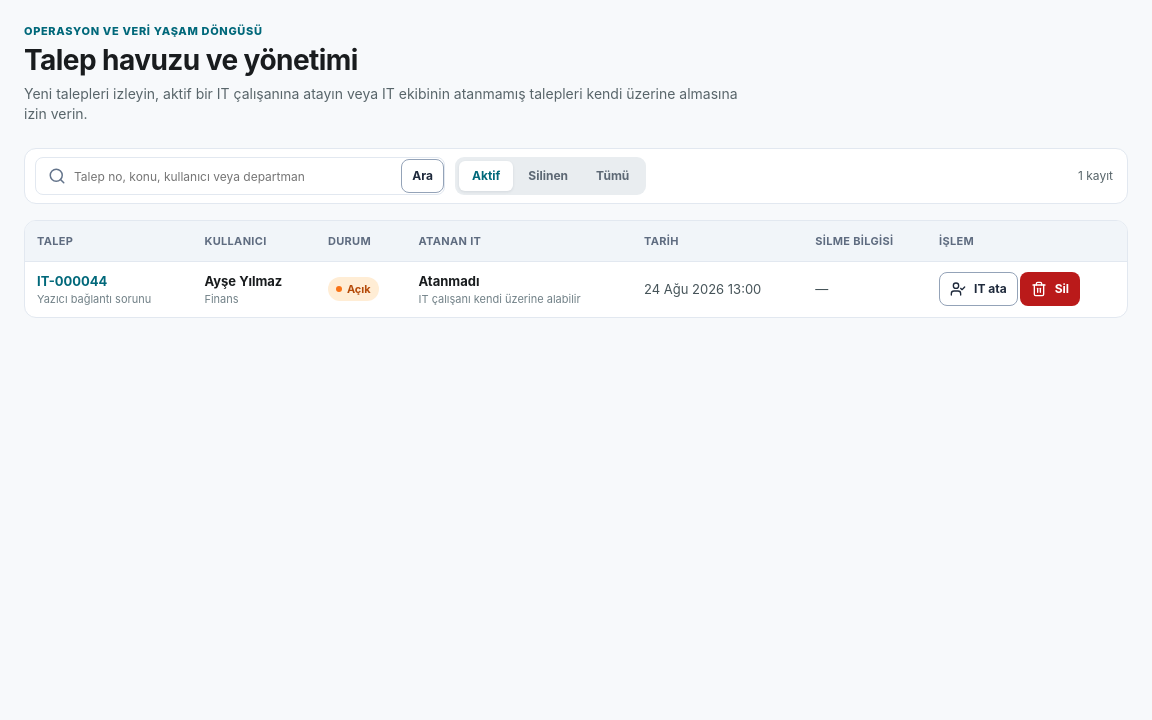
it: yönetim ekranları › admin talep havuzundan aktif IT çalışanına manuel atama yapar
This screenshot has width=1152, height=720.
Expected: the heading "Talep havuzu ve yönetimi" is shown, [24, 43, 358, 77]
Expected: the text "IT çalışanı kendi üzerine alabilir" is shown, [418, 292, 581, 306]
Click the button "IT ata".
click(978, 289)  # box [939, 272, 1018, 306]
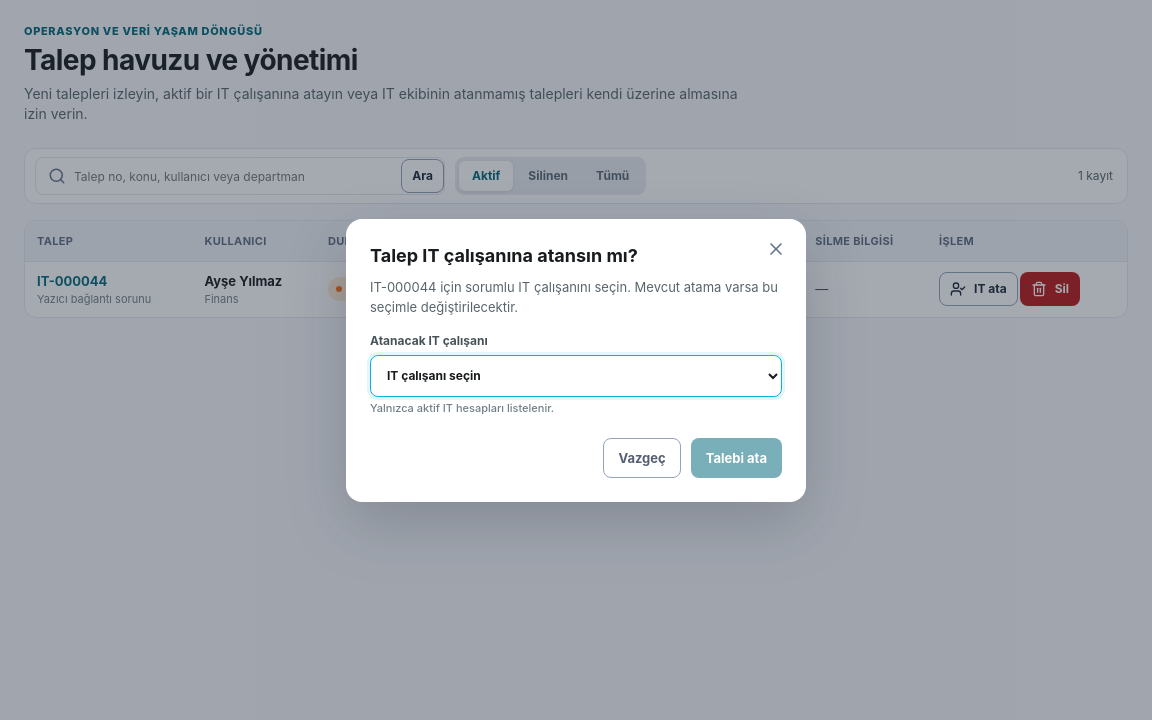
Select "Deniz Teknik · deniz.it@company.com" in the dropdown labelled "Atanacak IT çalışanı" at (576, 376), box [370, 354, 782, 396]
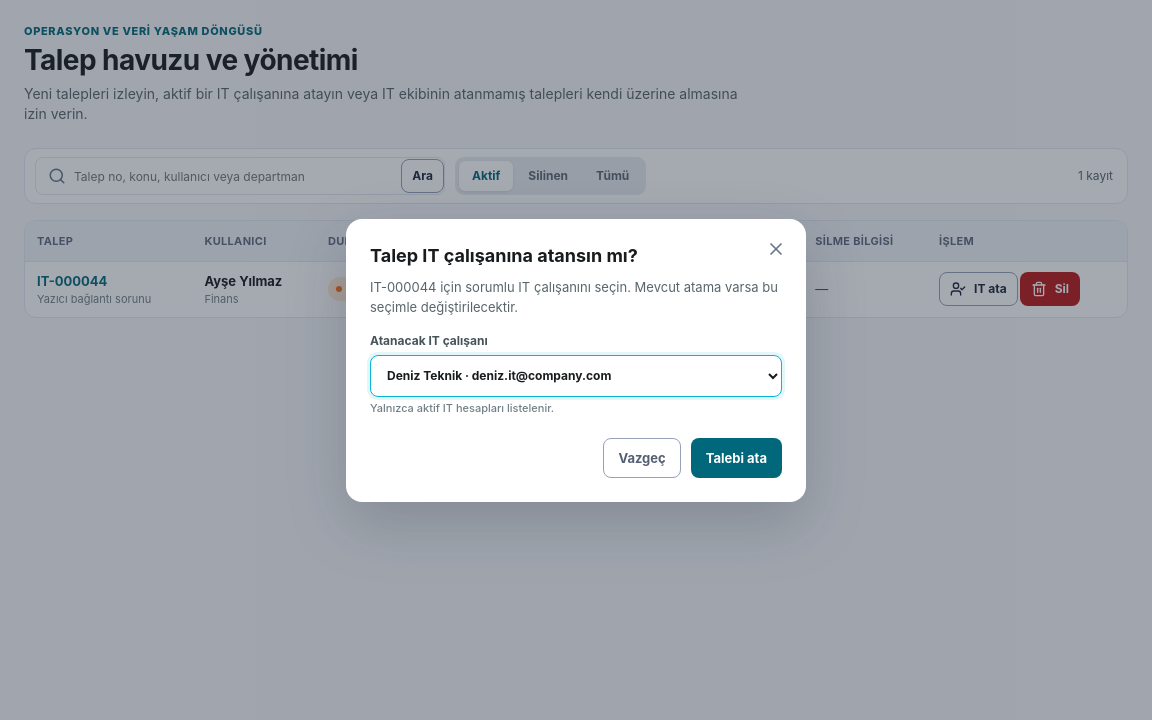
Click the button "Talebi ata".
click(736, 458)  # box [691, 438, 782, 478]
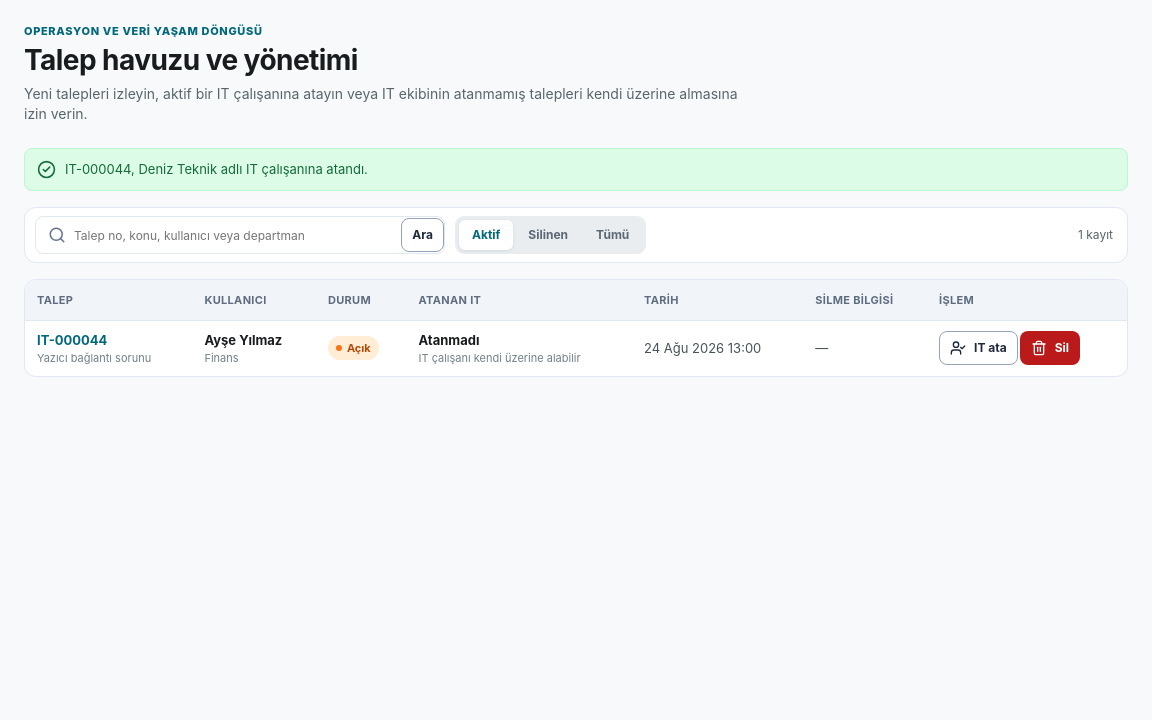
Result: the text "IT-000044, Deniz Teknik adlı IT çalışanına atandı." is shown at [65, 160, 368, 178]
